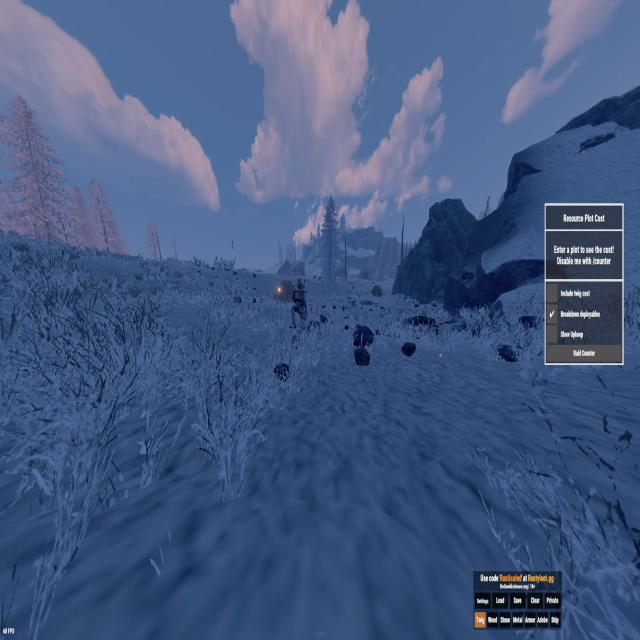Player: (288, 273, 313, 333)
